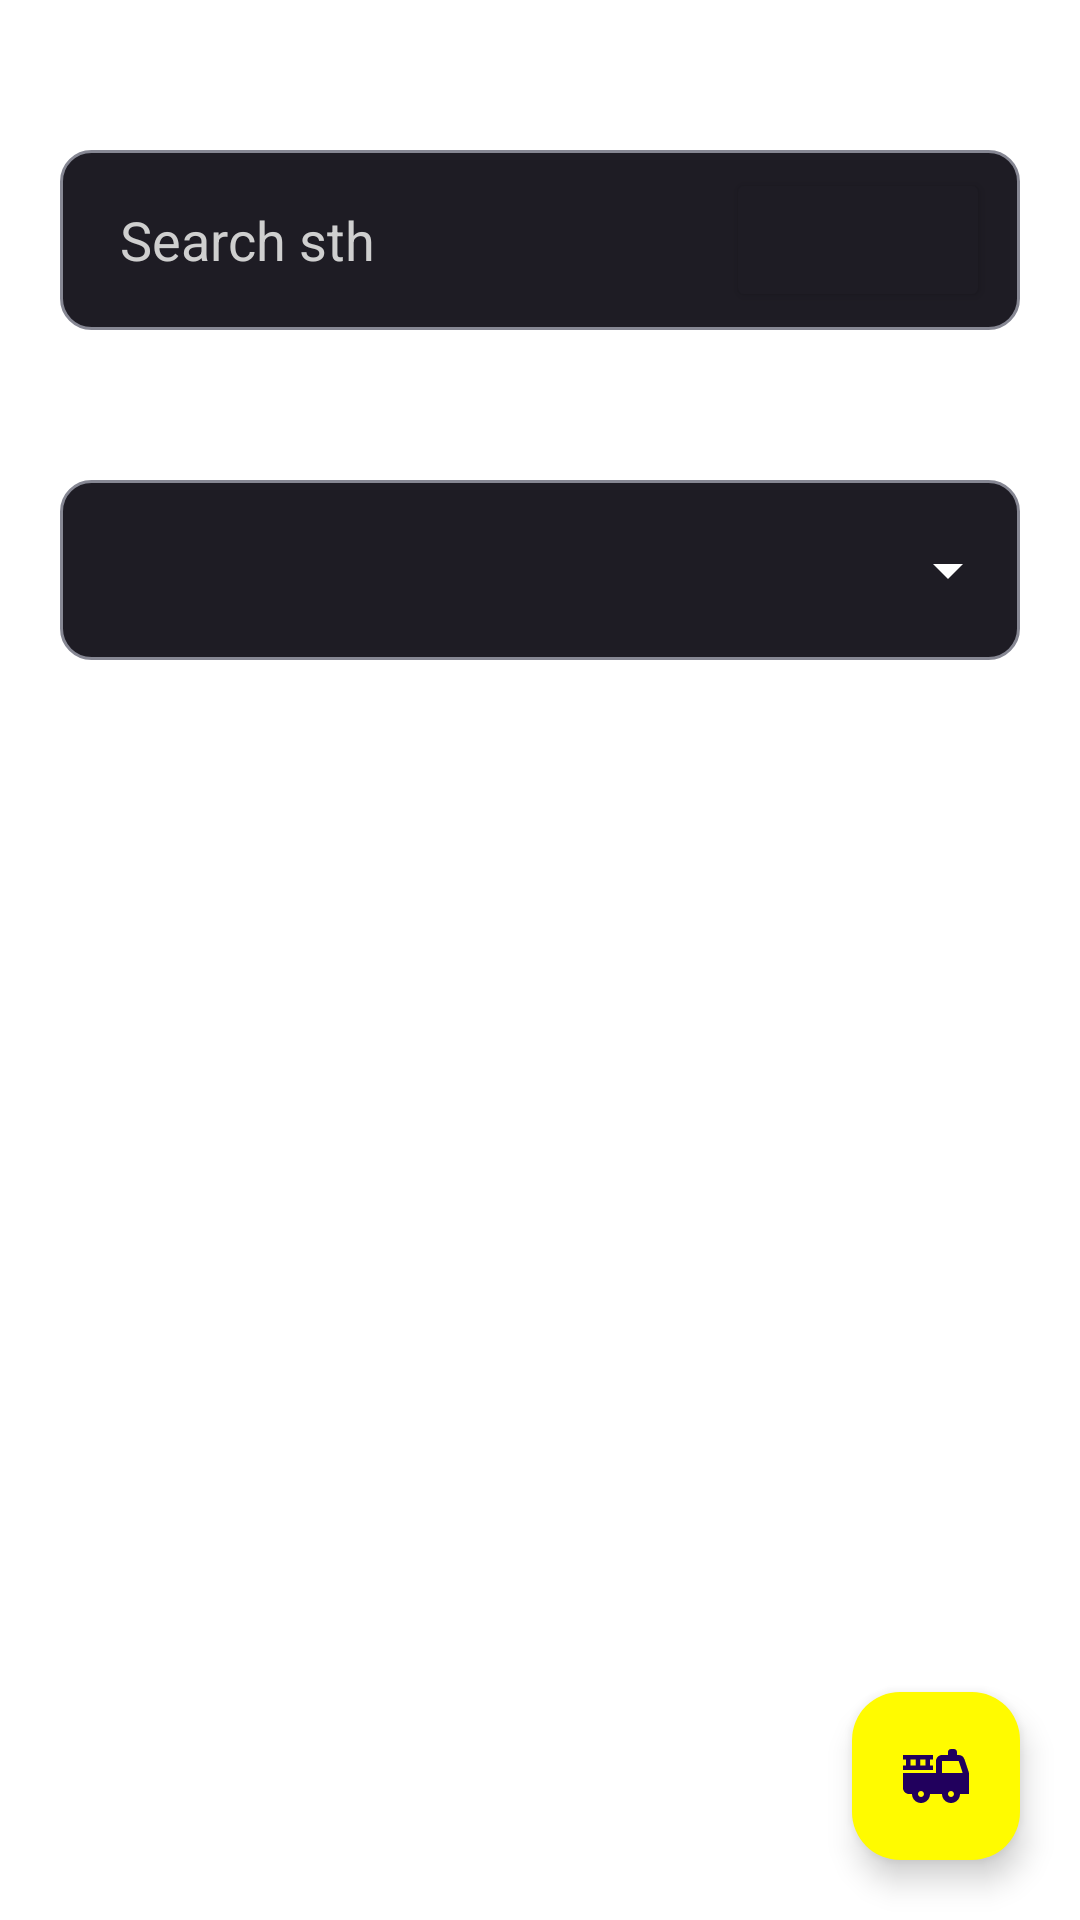

Named icons in this screenshot (1080 × 1920) and their centers, (x,y):
truck: (936,1776)
